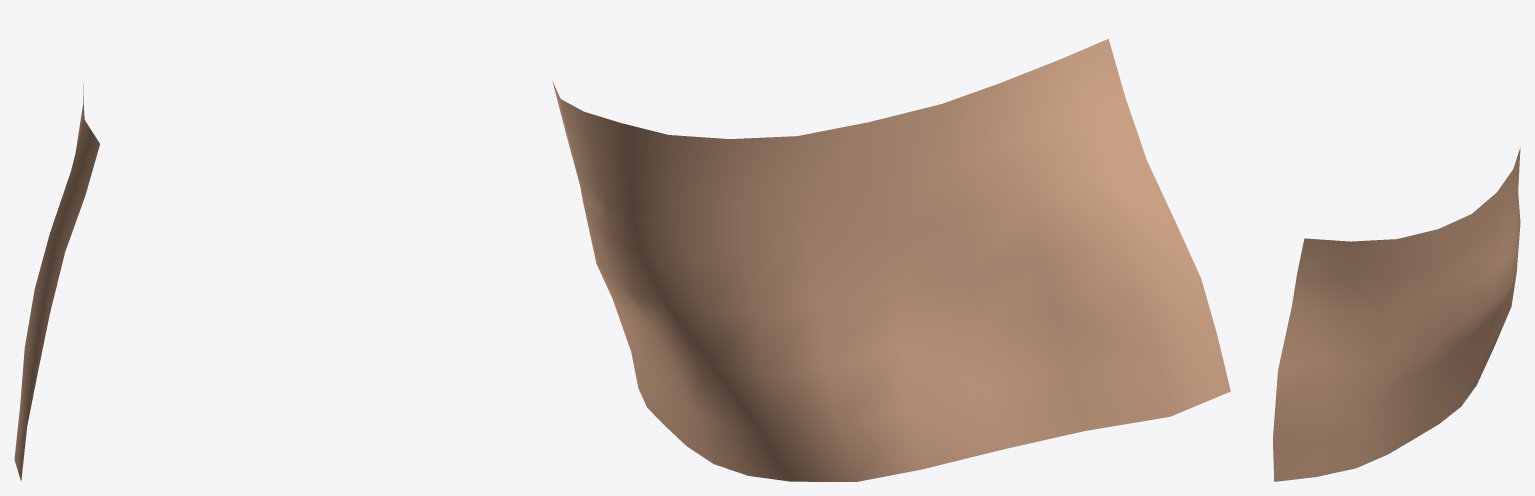
The model's file is posterior-region-of-elbow-r.glb.
The picture shows the model from 3 angles, left to right: view 1: azimuth 30°, elevation 25°; view 2: azimuth 150°, elevation 25°; view 3: azimuth 270°, elevation 25°; orthographic projection. The views are drawn at different scales.
Parts seen in each view (by area): view 1: Posterior region of elbow.r; view 2: Posterior region of elbow.r; view 3: Posterior region of elbow.r.
Boxes of the visible parts, left/top/right/bottom form: Posterior region of elbow.r: left=14, top=83, right=99, bottom=481; Posterior region of elbow.r: left=552, top=39, right=1230, bottom=481; Posterior region of elbow.r: left=1273, top=148, right=1520, bottom=481.
Bounding box in the file's own units: 0.0968 × 0.0667 × 0.0515.
